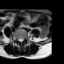CCS_stenosis: (20, 36, 22, 44)
LFS_normal: (23, 35, 26, 41)
LLS_normal: (22, 36, 23, 43)
RFS_normal: (16, 35, 18, 42)
RLS_normal: (18, 36, 20, 43)
